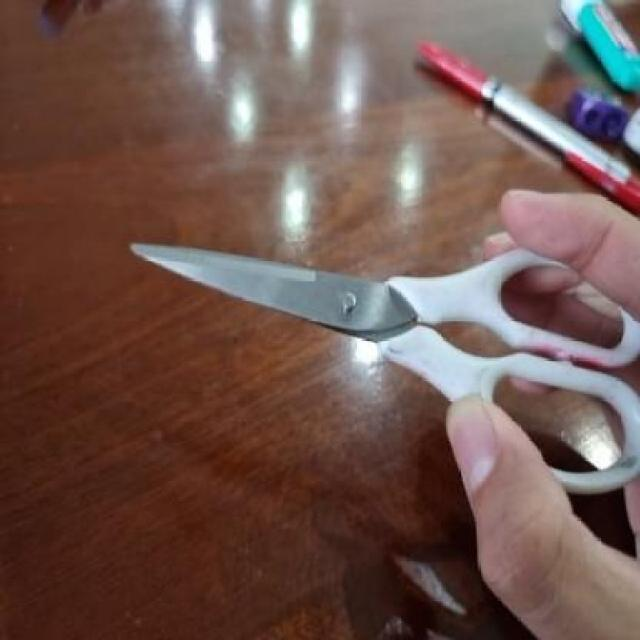not trash: (115, 214, 640, 492), (404, 29, 640, 213), (540, 0, 640, 98)
